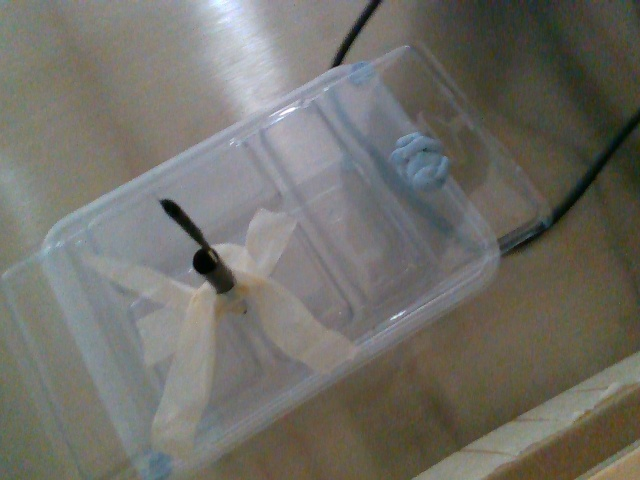test_strip: (158, 198, 218, 262)
